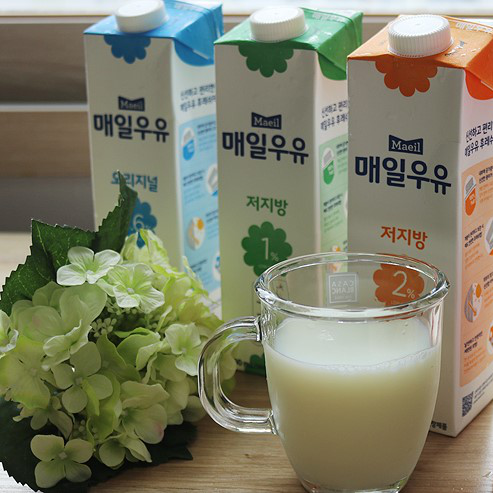milk: (344, 1, 493, 439), (215, 1, 347, 252), (81, 1, 216, 242)
